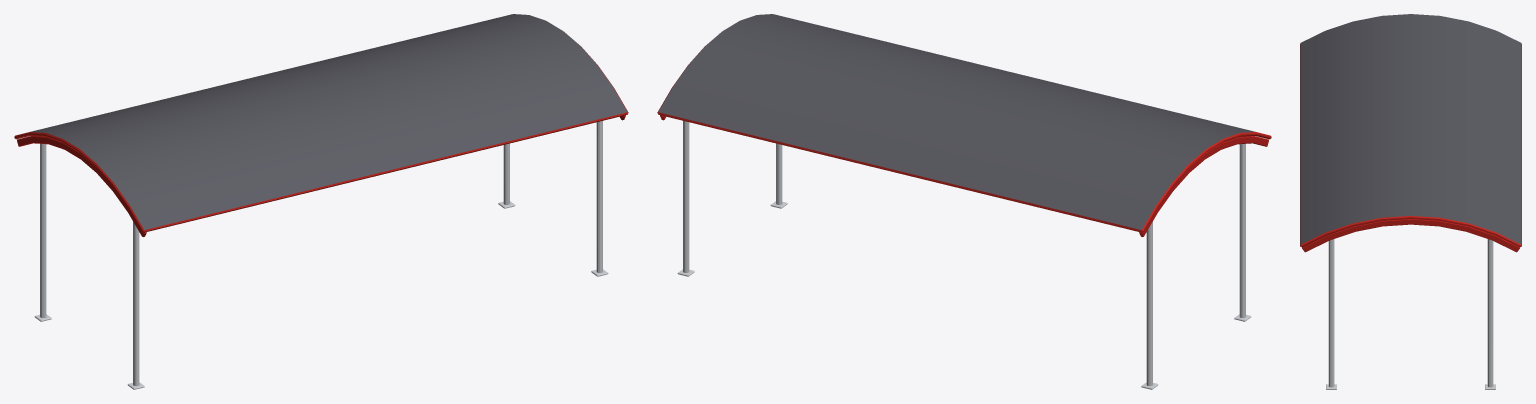
File: techo_curvo_grande.glb
3 views of the same model, side by side, from view 1: azimuth 30°, elevation 25°; view 2: azimuth 150°, elevation 25°; view 3: azimuth 270°, elevation 25° (orthographic). The views are drawn at different scales.
Parts seen in each view (by area): view 1: pieza_tramo, pieza_punta_izq, pieza_punta_der; view 2: pieza_tramo, pieza_punta_izq, pieza_punta_der; view 3: pieza_tramo, pieza_punta_der, pieza_punta_izq.
Part boxes in pixels (<box>): pieza_tramo: <box>71,24,587,222</box>; pieza_punta_izq: <box>14,122,184,389</box>; pieza_punta_der: <box>473,14,628,276</box>; pieza_tramo: <box>698,24,1214,222</box>; pieza_punta_izq: <box>1101,122,1271,389</box>; pieza_punta_der: <box>657,14,812,276</box>; pieza_tramo: <box>1300,31,1521,228</box>; pieza_punta_der: <box>1300,199,1521,389</box>; pieza_punta_izq: <box>1300,14,1521,60</box>.
Size of what is drawn, in the model's own units: 3.5 by 1.42 by 1.62.
